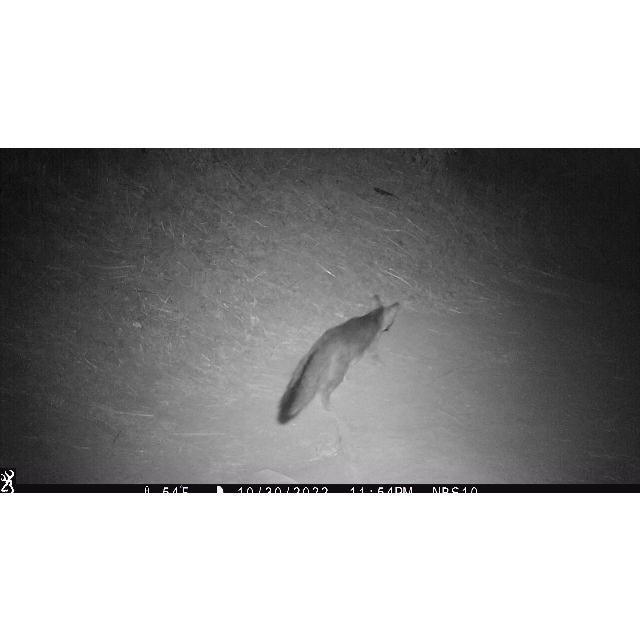animals: (276, 292, 402, 426)
